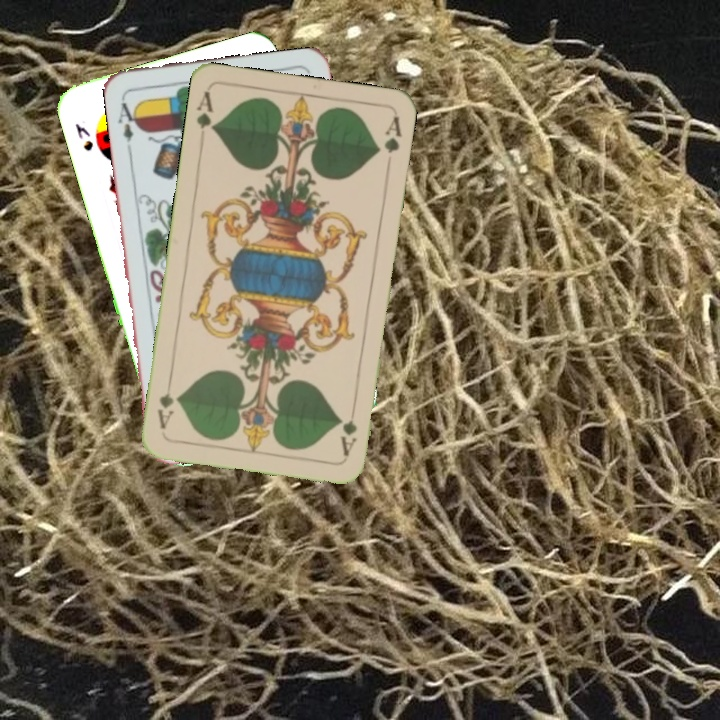EA: (114, 93, 142, 144)
GA: (193, 87, 219, 135), (336, 415, 360, 458)
SK: (71, 119, 96, 154)
